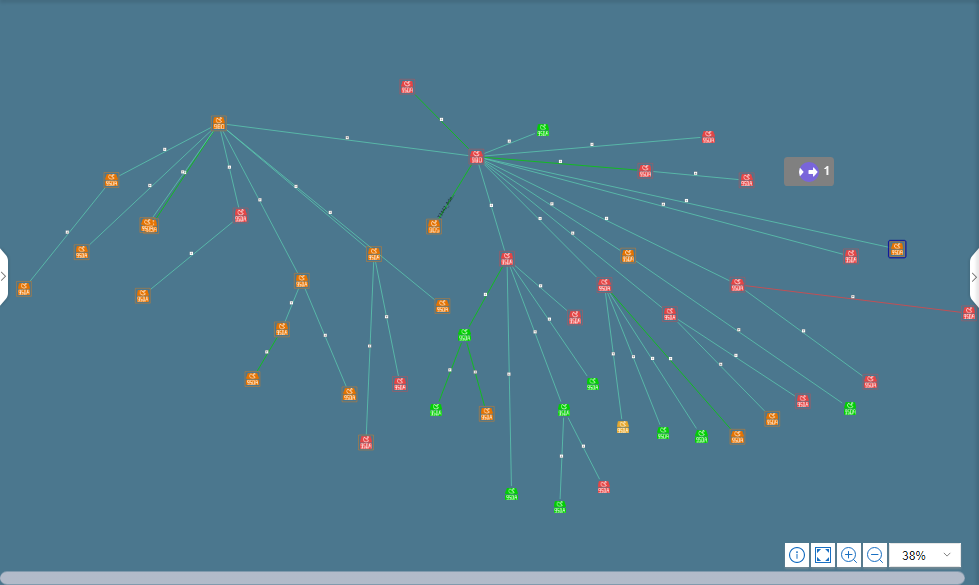ATN_Orange: (890, 240, 907, 263), (211, 118, 228, 135)
ATN_Red: (499, 253, 516, 270), (737, 173, 753, 190), (701, 130, 717, 147), (468, 149, 483, 166)
Link_Blue: (506, 161, 889, 257), (240, 166, 346, 386), (675, 288, 852, 404), (609, 289, 730, 429), (229, 130, 358, 240), (486, 167, 583, 288), (240, 166, 297, 369), (743, 289, 864, 380), (511, 271, 586, 380), (251, 124, 473, 159), (621, 227, 711, 306), (682, 325, 766, 407), (28, 185, 101, 279), (240, 166, 301, 276), (511, 279, 561, 404), (676, 320, 794, 369), (609, 312, 658, 421), (106, 159, 181, 228), (503, 136, 672, 166), (150, 222, 225, 285), (303, 289, 350, 383), (119, 124, 207, 173), (603, 296, 626, 423), (511, 265, 571, 312), (382, 259, 436, 299), (566, 418, 598, 478), (480, 182, 509, 248), (505, 325, 516, 487), (376, 283, 396, 369), (217, 130, 237, 208), (364, 280, 372, 407), (486, 130, 534, 150), (364, 280, 372, 392), (601, 257, 632, 283), (708, 173, 742, 184), (285, 289, 301, 312), (676, 320, 690, 331)
Link_Green: (609, 296, 727, 426), (156, 130, 213, 211), (413, 94, 473, 153), (468, 265, 500, 323), (437, 167, 470, 221), (254, 332, 278, 374), (437, 345, 457, 395), (254, 338, 274, 374), (468, 360, 482, 398), (569, 161, 632, 167)
Link_Red: (750, 283, 958, 319)
RTN_Green: (535, 124, 552, 141), (505, 485, 522, 501), (584, 381, 601, 392), (554, 504, 571, 513), (560, 406, 568, 416)
Switch_Red: (964, 308, 977, 325)
